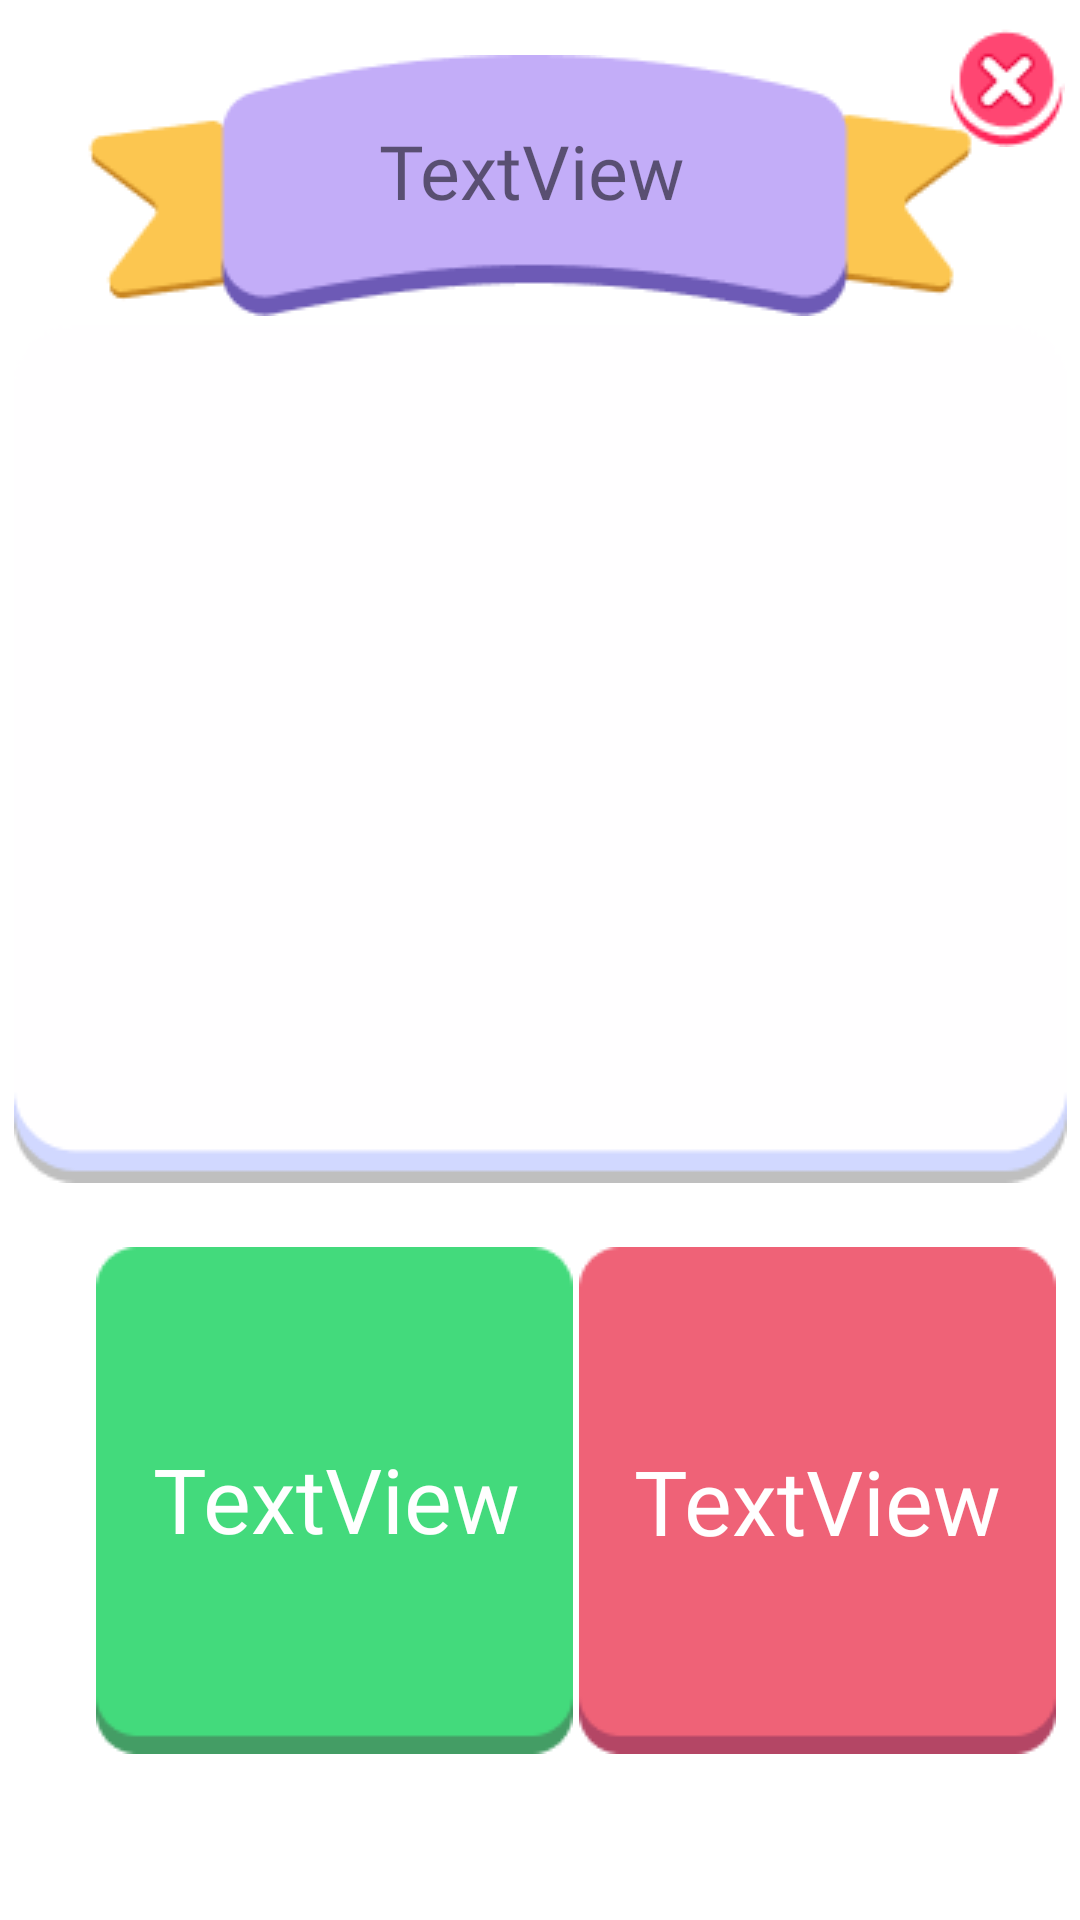

Screen size 1080x1920. Icon name, then its center in pixels as (x=x, y=y):
close: (x=1006, y=80)
